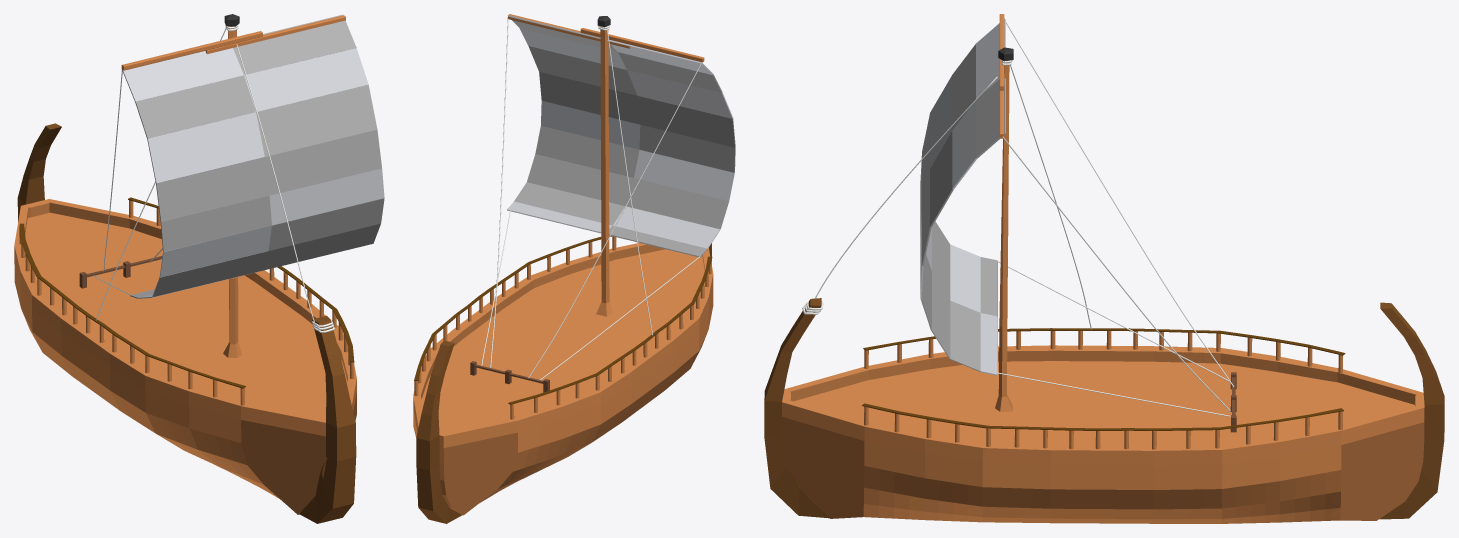
Rendered from FirstSheep.fbx.
3 views of the same model, side by side, from view 1: azimuth 30°, elevation 25°; view 2: azimuth 150°, elevation 25°; view 3: azimuth 270°, elevation 25° (orthographic). The views are drawn at different scales.
Parts seen in each view (by area): view 1: Body, ParusBody, ParusBody.001, Nos, Cylinder.037, Cube.001, Cylinder.036, Cube, NurbsPath; view 2: Body, ParusBody, ParusBody.001, Nos, Cylinder.036, Cylinder.037, Cube.001, Cube, NurbsPath.001, NurbsPath.002, NurbsPath.005; view 3: Body, ParusBody, Nos, ParusBody.001, Cylinder.036, Cube, Cube.001.
Boxes of the visible parts, x1=… form: Body: x1=14, y1=199, x2=356, y2=514; ParusBody: x1=130, y1=14, x2=384, y2=298; ParusBody.001: x1=122, y1=48, x2=384, y2=298; Nos: x1=17, y1=123, x2=356, y2=523; Cylinder.037: x1=121, y1=15, x2=345, y2=70; Cube.001: x1=19, y1=223, x2=245, y2=388; Cylinder.036: x1=223, y1=26, x2=241, y2=357; Cube: x1=128, y1=197, x2=354, y2=362; NurbsPath: x1=236, y1=44, x2=315, y2=325; Body: x1=413, y1=243, x2=713, y2=515; ParusBody: x1=508, y1=15, x2=735, y2=257; ParusBody.001: x1=507, y1=28, x2=734, y2=249; Nos: x1=416, y1=243, x2=711, y2=523; Cylinder.036: x1=596, y1=26, x2=612, y2=316; Cylinder.037: x1=508, y1=14, x2=704, y2=62; Cube.001: x1=508, y1=256, x2=712, y2=404; Cube: x1=414, y1=236, x2=611, y2=380; NurbsPath.001: x1=490, y1=17, x2=508, y2=367; NurbsPath.002: x1=528, y1=62, x2=702, y2=377; NurbsPath.005: x1=607, y1=28, x2=652, y2=335; Body: x1=781, y1=345, x2=1424, y2=523; ParusBody: x1=920, y1=44, x2=1005, y2=371; Nos: x1=764, y1=298, x2=1444, y2=519; ParusBody.001: x1=920, y1=18, x2=1005, y2=375; Cylinder.036: x1=995, y1=63, x2=1012, y2=411; Cube: x1=862, y1=403, x2=1343, y2=430; Cube.001: x1=863, y1=328, x2=1345, y2=355.
Bounding box in the file's own units: 391 × 723 × 959.
